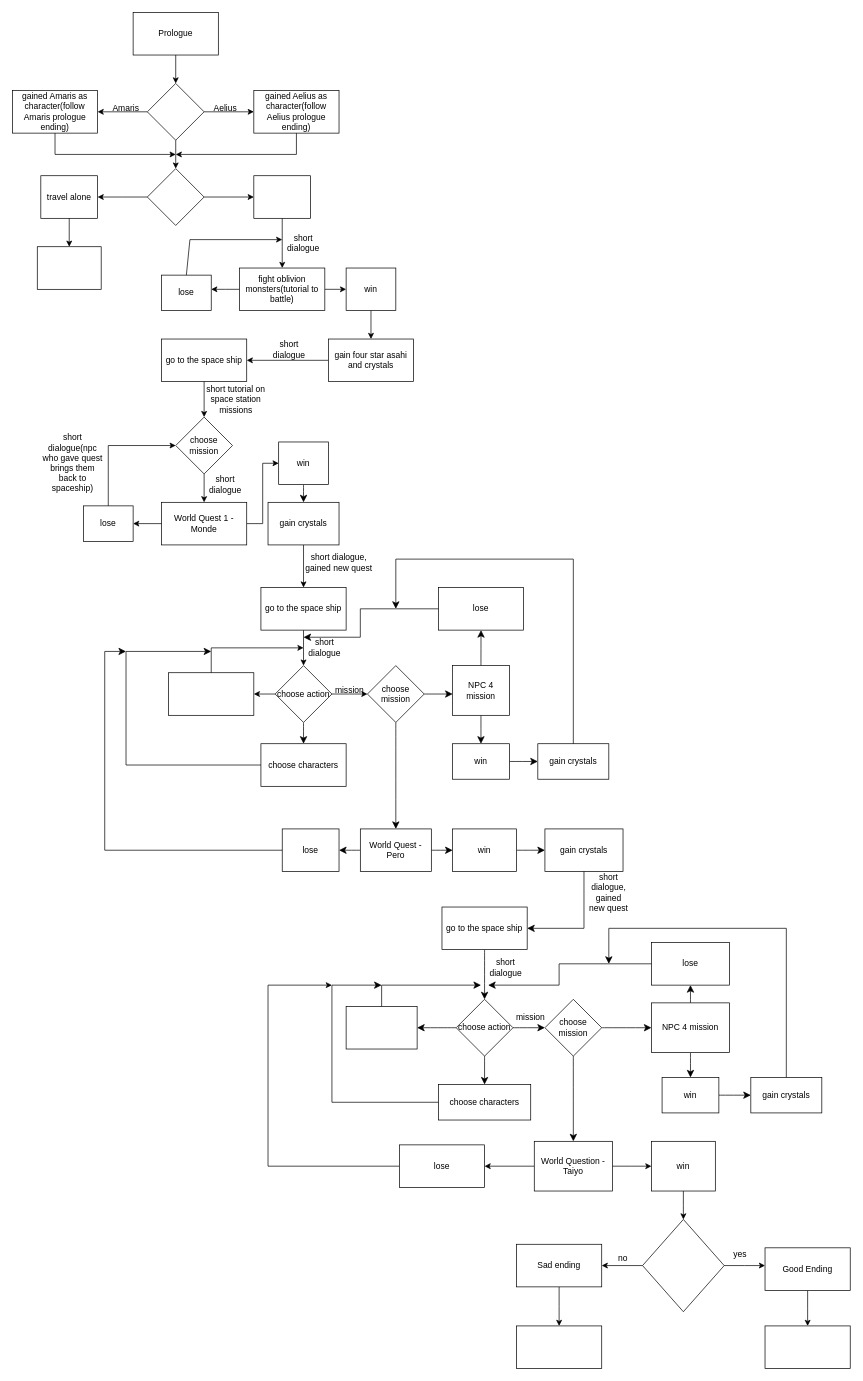
Image size: 863x1381. Some labels were removed from this diagram. Each missing label, with the box of its shape:
choose to pick up crystal or not: (642, 1219, 724, 1312)
good epilogue: (764, 1325, 850, 1369)
pick a character: (147, 83, 204, 140)
Pick Path: (147, 168, 204, 225)
Sad Epilogue: (516, 1325, 602, 1369)
short epilogue(really bad ending): (37, 246, 101, 289)
Star system: (345, 1006, 417, 1049)
star system(will be given short tutorial): (168, 672, 254, 715)
travel with saviors, Legacy: (253, 175, 311, 218)
